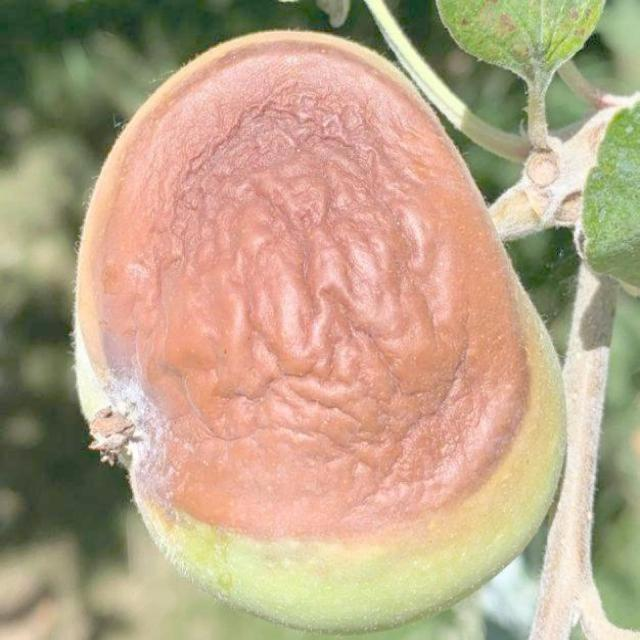Blossom End Rot Fruit: (65, 25, 359, 362)
